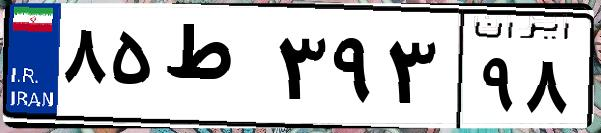3: (270, 28, 330, 110), (385, 28, 445, 110)
5: (110, 28, 158, 98)
8: (57, 26, 110, 100), (525, 38, 570, 115)
9: (330, 28, 385, 110), (475, 38, 525, 113)
ط: (158, 20, 270, 120)
